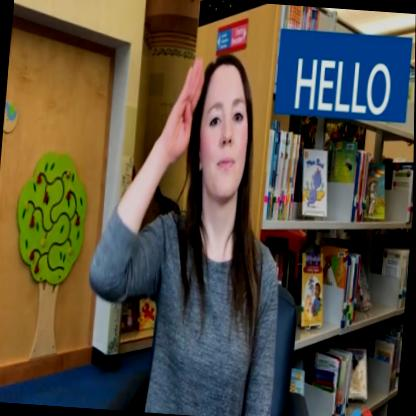Hello: (149, 37, 291, 276)
